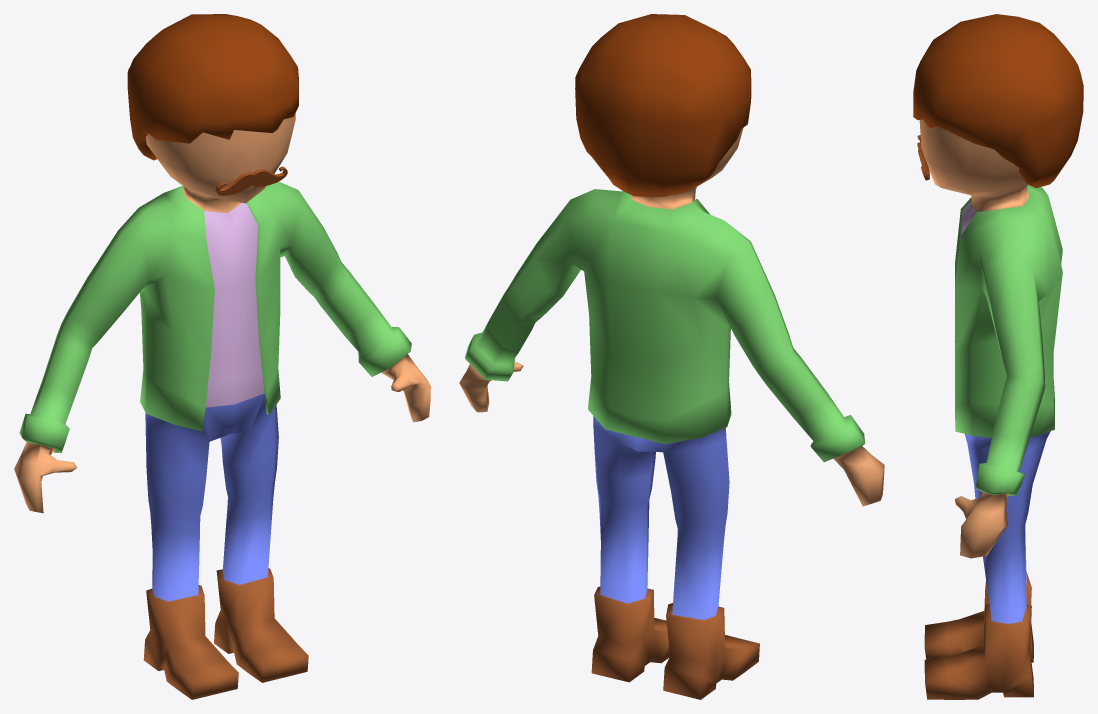
Rendered from male.character.fbx.
3 renders of one model, left to right at view 1: azimuth 30°, elevation 25°; view 2: azimuth 150°, elevation 25°; view 3: azimuth 270°, elevation 25°, orthographic. The views are drawn at different scales.
Visible parts, largest first — view 1: Character.001; view 2: Character.001; view 3: Character.001.
Part boxes in pixels (box(x1,y1,x2,y2)): Character.001: box(14, 14, 430, 699); Character.001: box(459, 14, 884, 699); Character.001: box(913, 14, 1083, 699).
Bounding box in the file's own units: 124 × 185 × 44.19.
